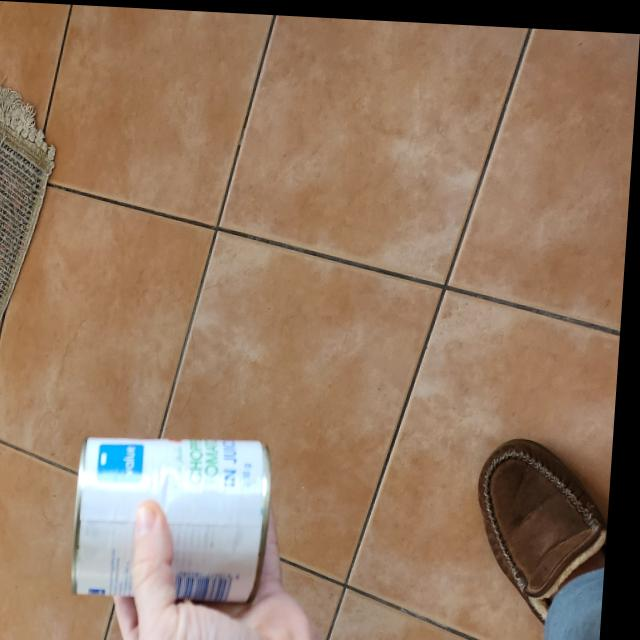tomato sauce: (78, 424, 281, 603)
